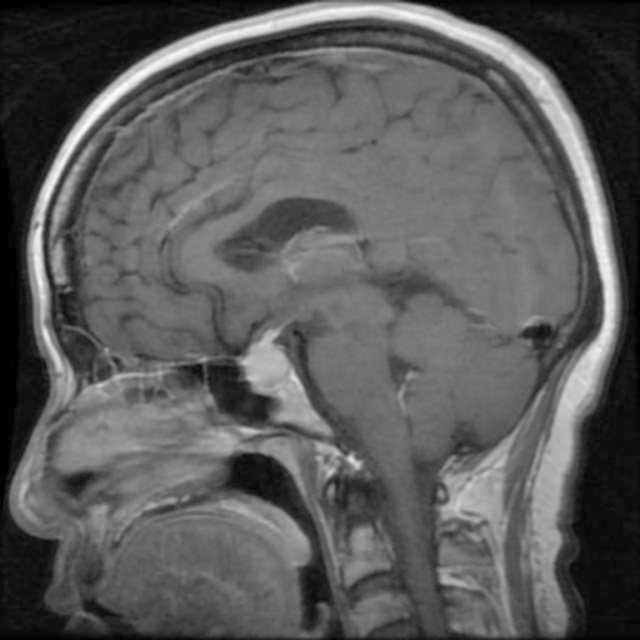no tumor: (238, 325, 328, 423)
